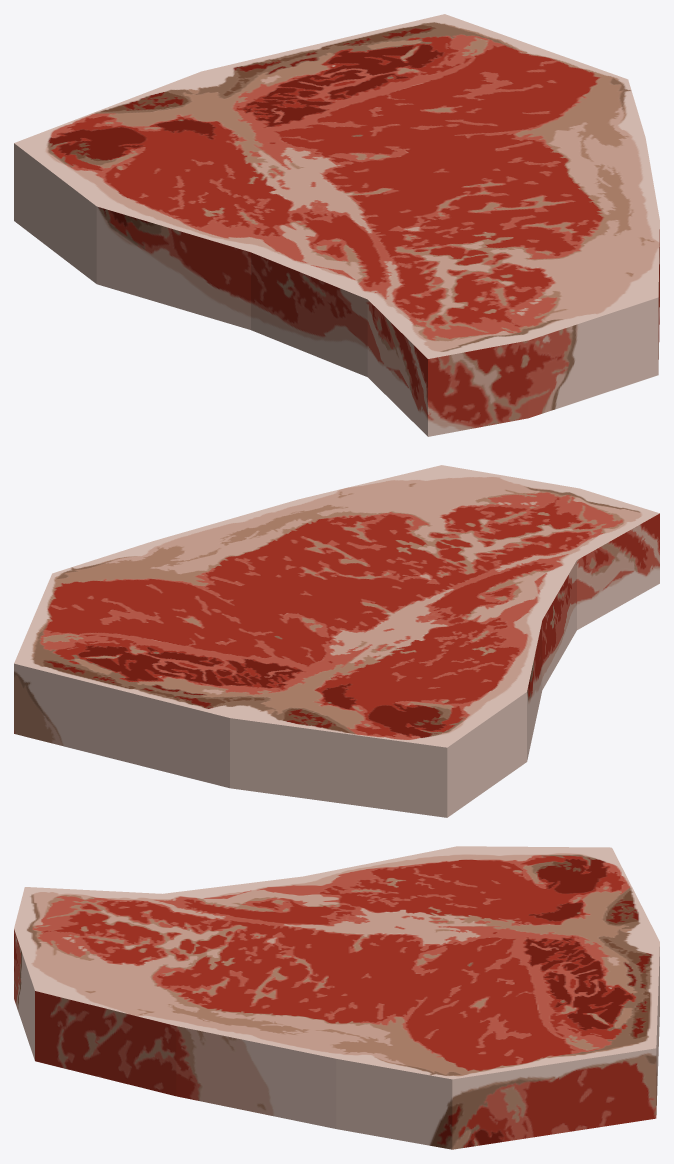
The model's file is food_03.fbx.
3 renders of one model, top to bottom at view 1: azimuth 30°, elevation 25°; view 2: azimuth 150°, elevation 25°; view 3: azimuth 270°, elevation 25°, orthographic. The views are drawn at different scales.
Parts seen in each view (by area): view 1: food_03; view 2: food_03; view 3: food_03.
Part boxes in pixels (x1=…): food_03: x1=14, y1=14, x2=659, y2=436; food_03: x1=14, y1=465, x2=659, y2=817; food_03: x1=14, y1=846, x2=659, y2=1149.
Bounding box in the file's own units: 2.41 × 0.3385 × 2.82.
